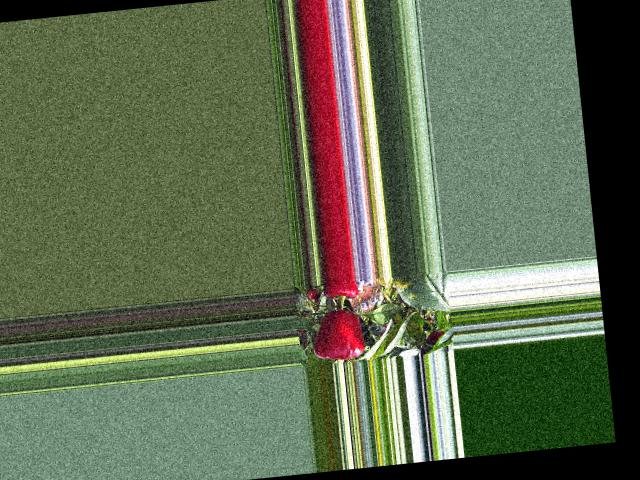bell_pepper: (321, 279, 363, 304)
